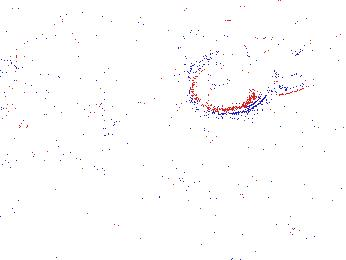moon jellyfish: (15, 38, 108, 111), (187, 42, 272, 115), (223, 37, 323, 97), (104, 72, 191, 138), (1, 58, 38, 128)
